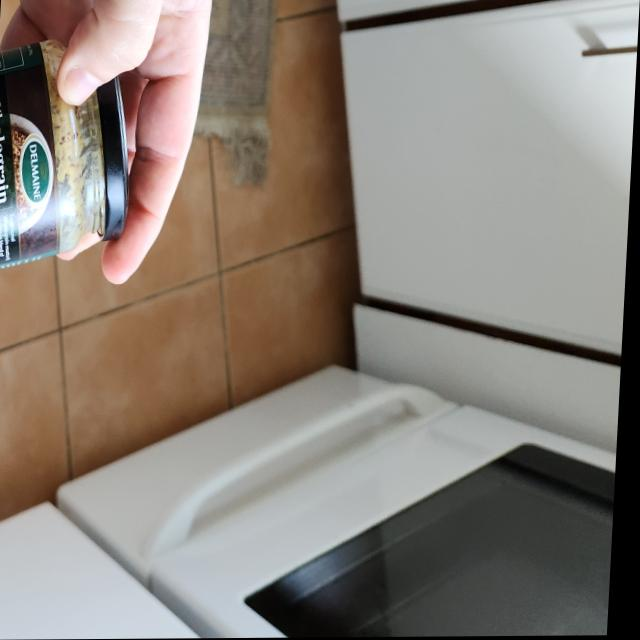mustard: (0, 38, 136, 288)
